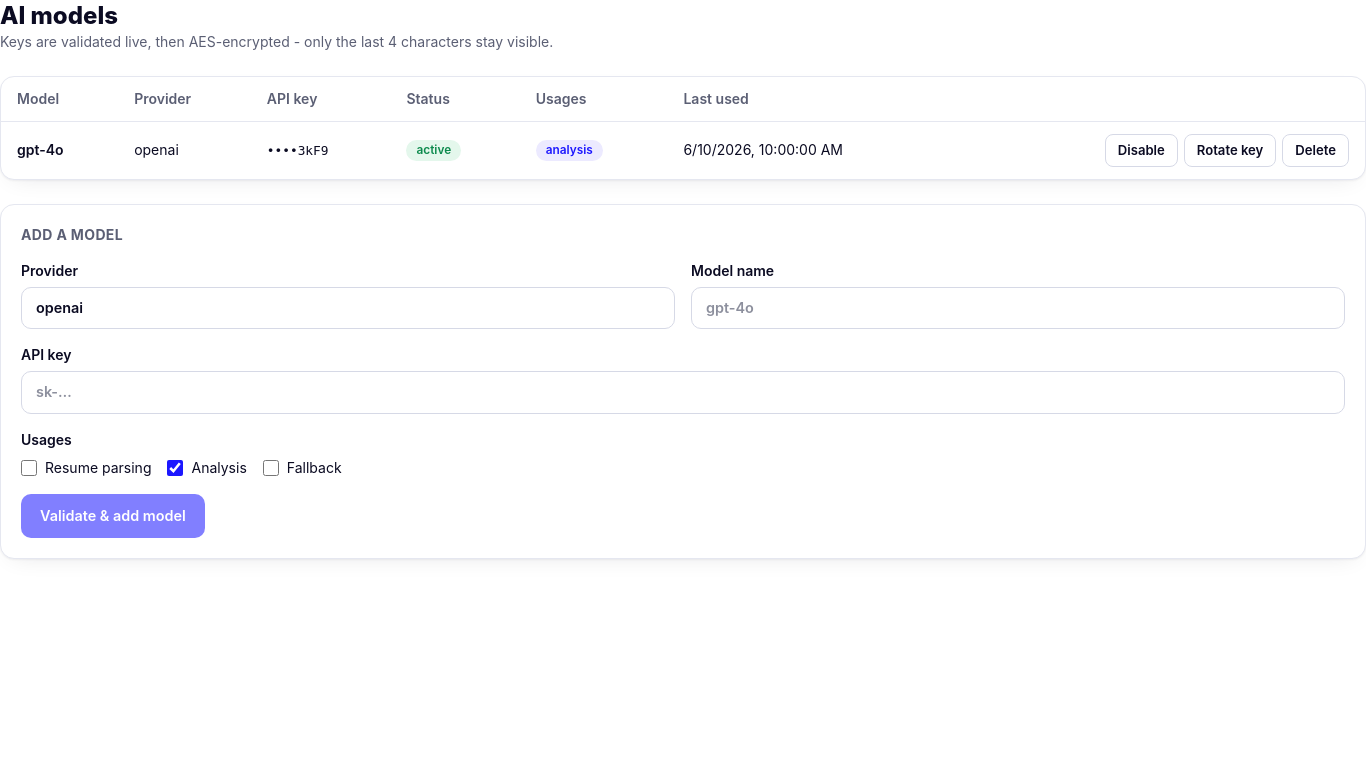
Test: admin model settings (issue #80 / 9.3) › delete-last-active shows the guard explanation with orphaned usages
Expected: the text "gpt-4o" is shown, [17,141,64,158]
Click the button "Delete": (1316, 150) [1282,134,1349,167]
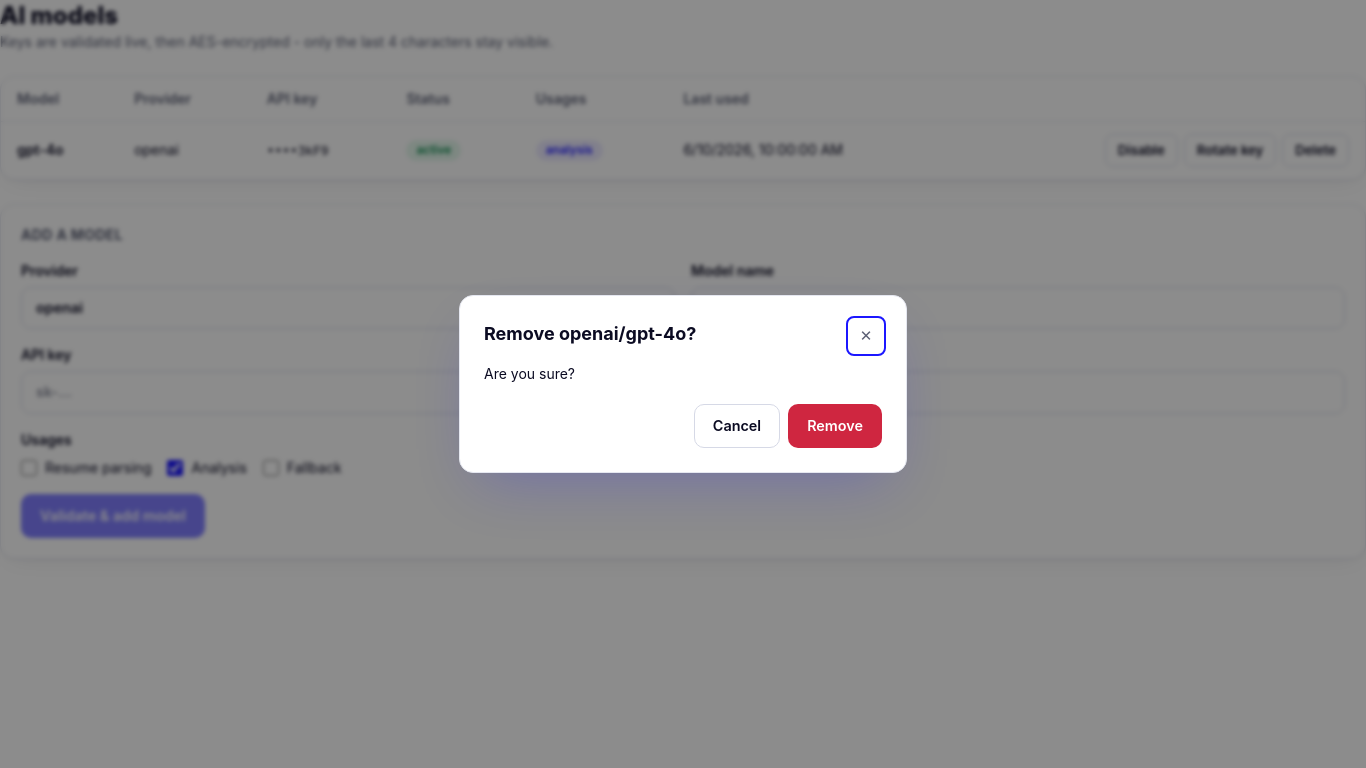
Click the button "Remove": (835, 426) [788,404,882,448]
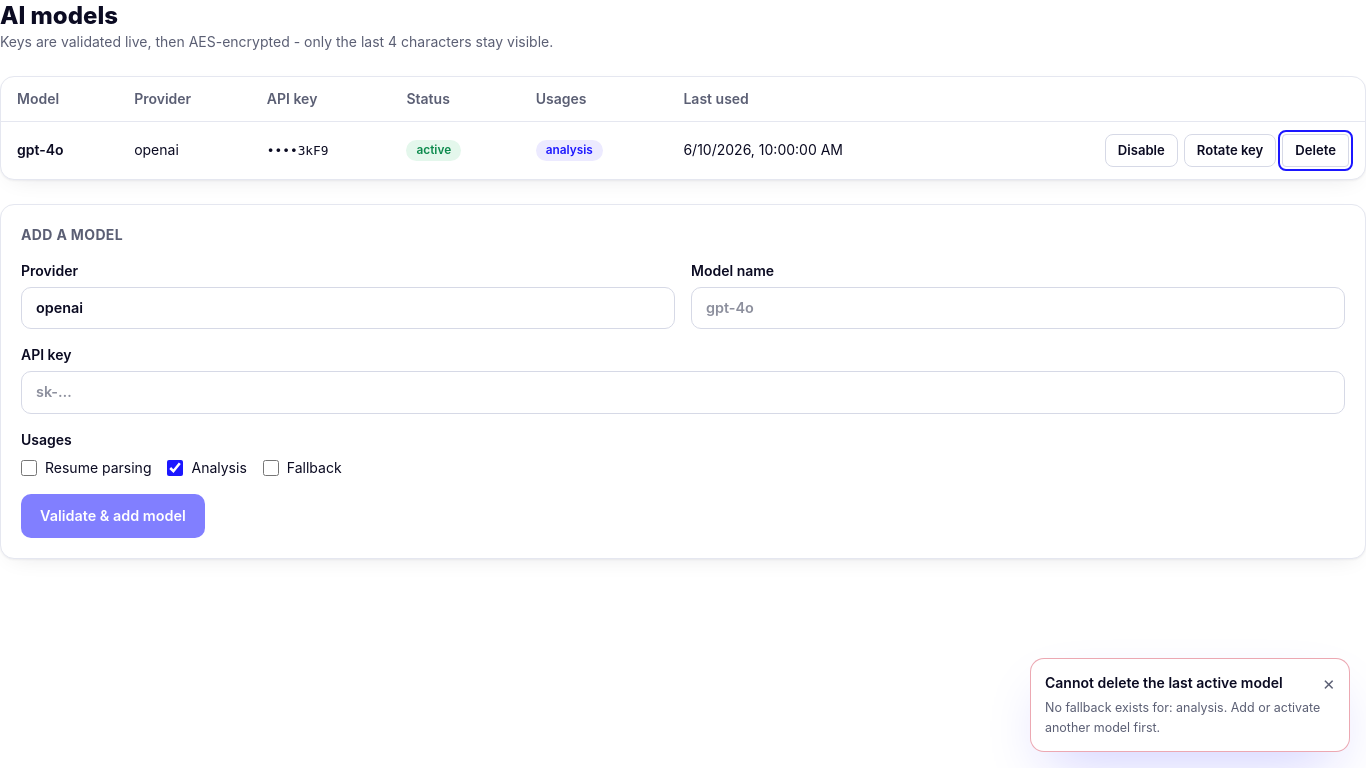
Expected: the text "Cannot delete the last active model" is shown, [1045,673,1283,693]
Expected: the text "No fallback exists for: analysis" is shown, [1045,700,1320,735]
